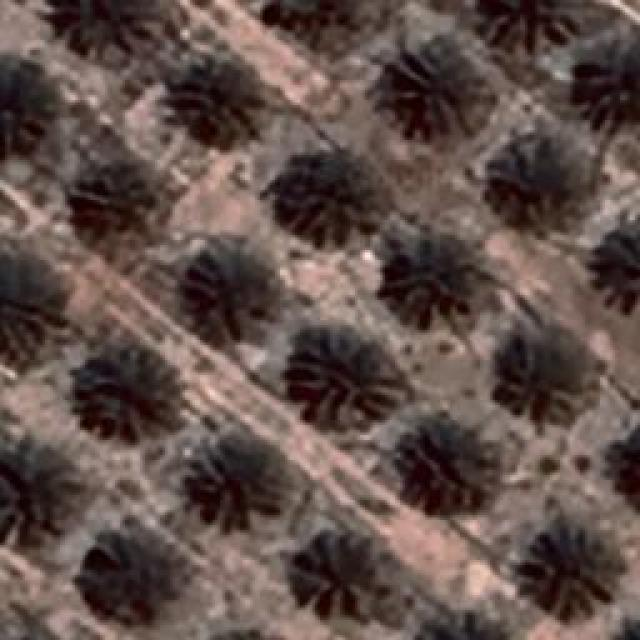PalmTree: (290, 330, 405, 430), (525, 520, 625, 620), (187, 245, 285, 345), (40, 0, 188, 65), (490, 126, 585, 226), (282, 132, 366, 242), (388, 40, 482, 135), (392, 220, 476, 322), (81, 346, 171, 436), (72, 158, 166, 244), (190, 442, 280, 530), (85, 538, 180, 620), (496, 328, 586, 414), (0, 439, 68, 549), (401, 416, 484, 504), (0, 236, 58, 359), (586, 204, 640, 315), (260, 0, 394, 44), (308, 532, 382, 610), (187, 62, 255, 146), (0, 66, 65, 149), (582, 28, 638, 122), (480, 0, 582, 45), (410, 599, 518, 640), (600, 423, 640, 516), (195, 623, 293, 640), (605, 619, 640, 640)
